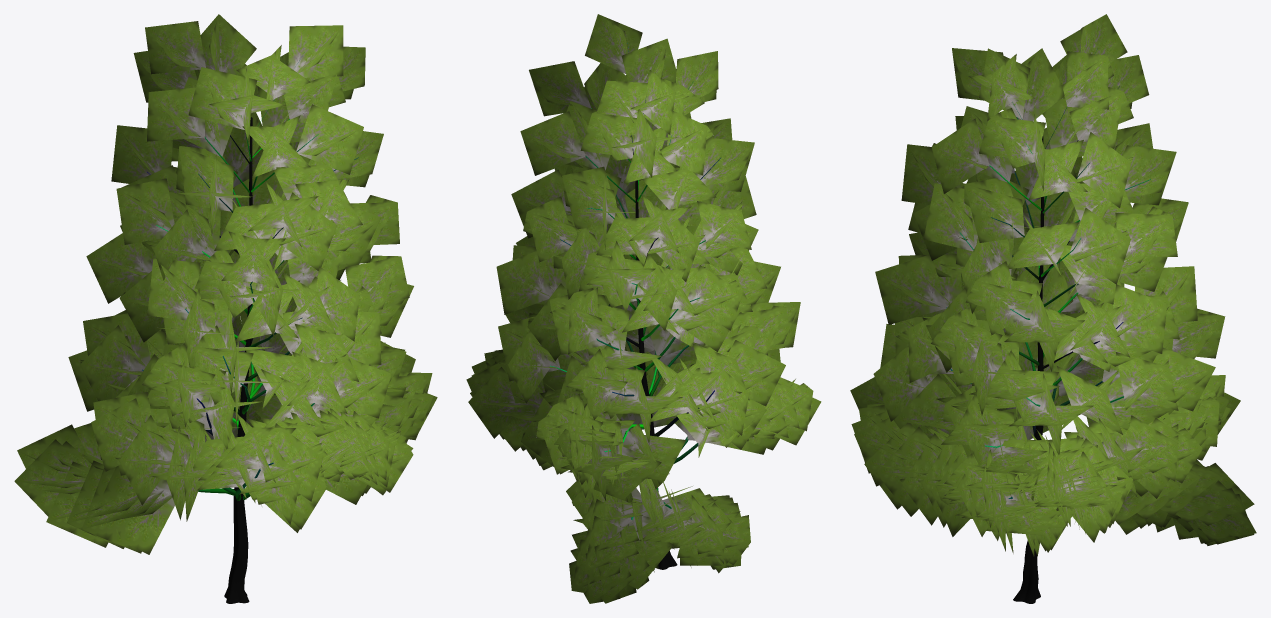
The model's file is BeechTree01.fbx.
The picture shows the model from 3 angles, left to right: view 1: azimuth 30°, elevation 25°; view 2: azimuth 150°, elevation 25°; view 3: azimuth 270°, elevation 25°; orthographic projection. The views are drawn at different scales.
Parts seen in each view (by area): view 1: Tree_1, Tree_0; view 2: Tree_1, Tree_0; view 3: Tree_1, Tree_0.
Boxes of the visible parts, left/top/right/bottom form: Tree_1: left=14, top=14, right=437, bottom=554; Tree_0: left=142, top=52, right=358, bottom=603; Tree_1: left=466, top=14, right=821, bottom=603; Tree_0: left=550, top=43, right=721, bottom=569; Tree_1: left=850, top=14, right=1256, bottom=556; Tree_0: left=946, top=49, right=1150, bottom=603.
Bounding box in the file's own units: 88.29 × 138 × 89.41.
